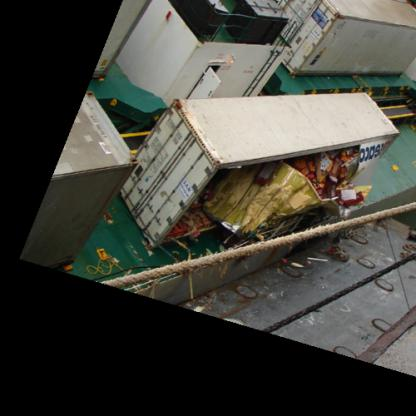Damage: (165, 125, 405, 255)
